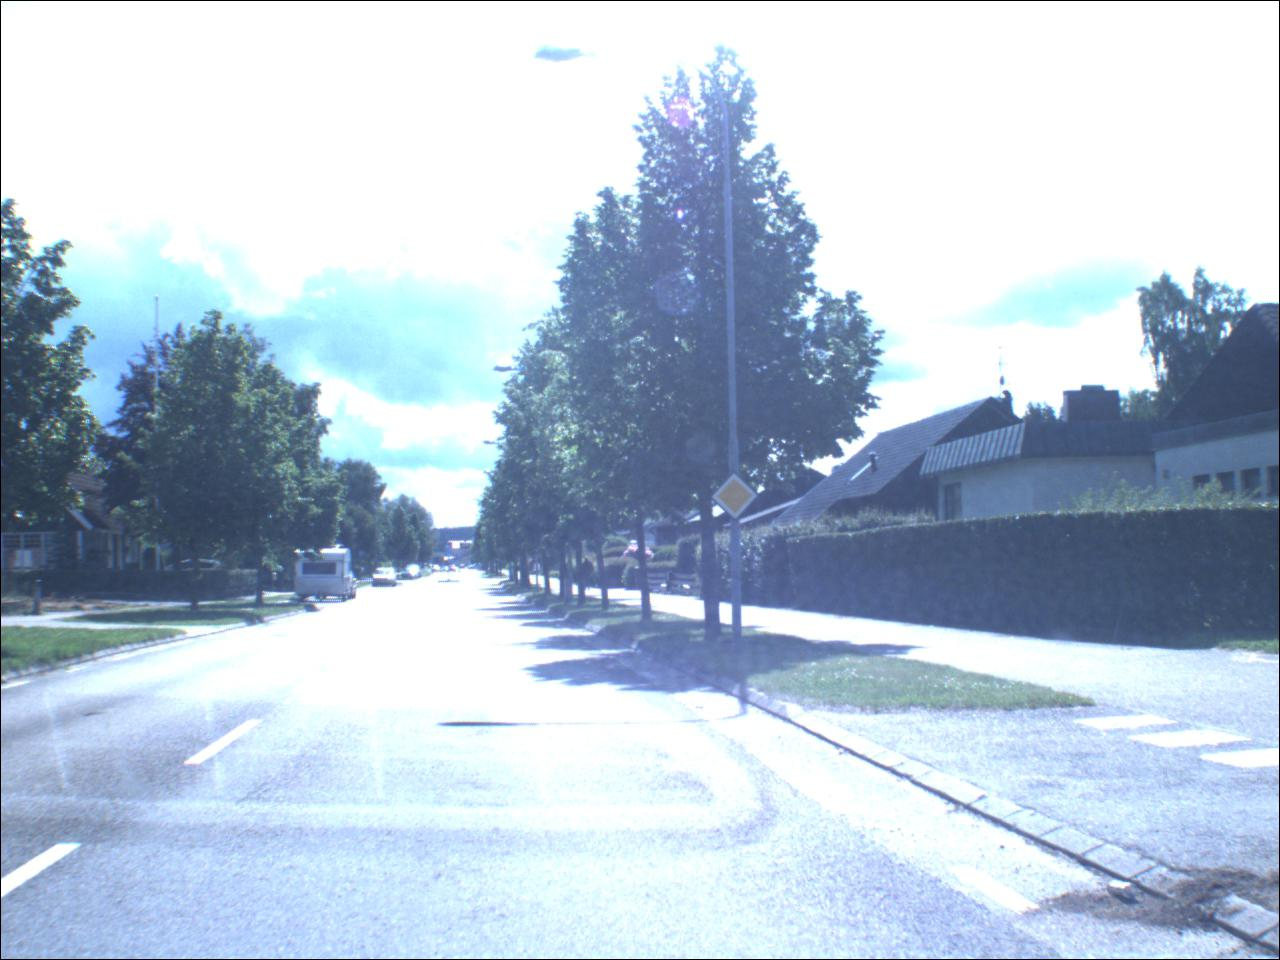PRIORITY_ROAD: (714, 474, 761, 521)
